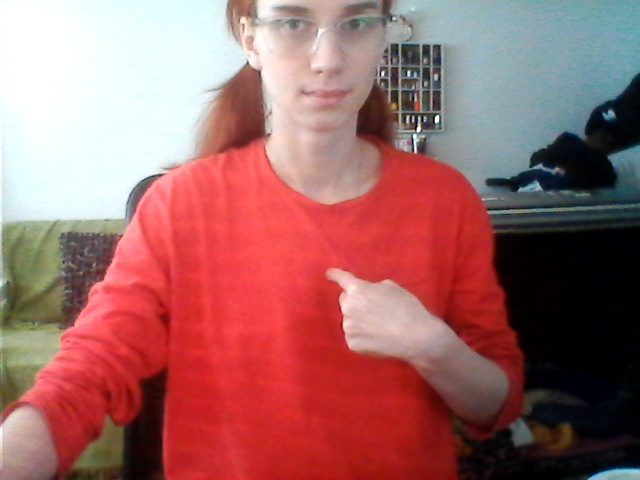ja: (294, 247, 455, 384)
